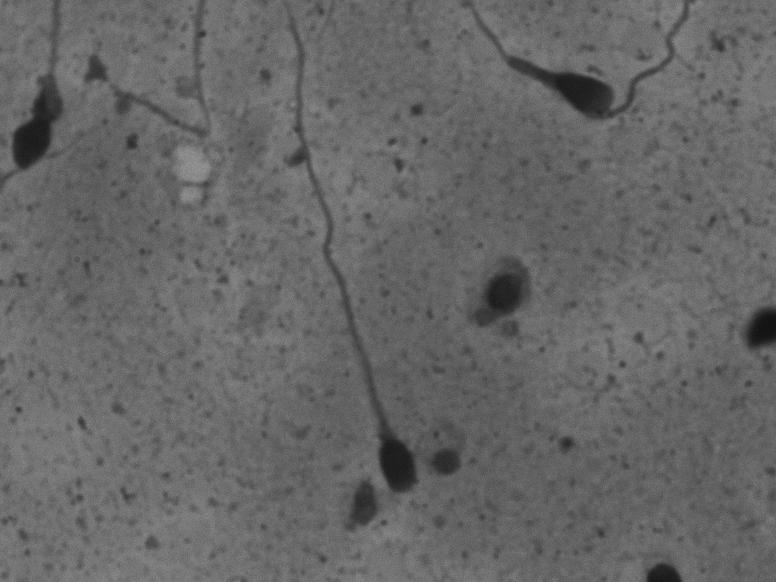Abnormal: (266, 8, 431, 503), (468, 13, 714, 146)
